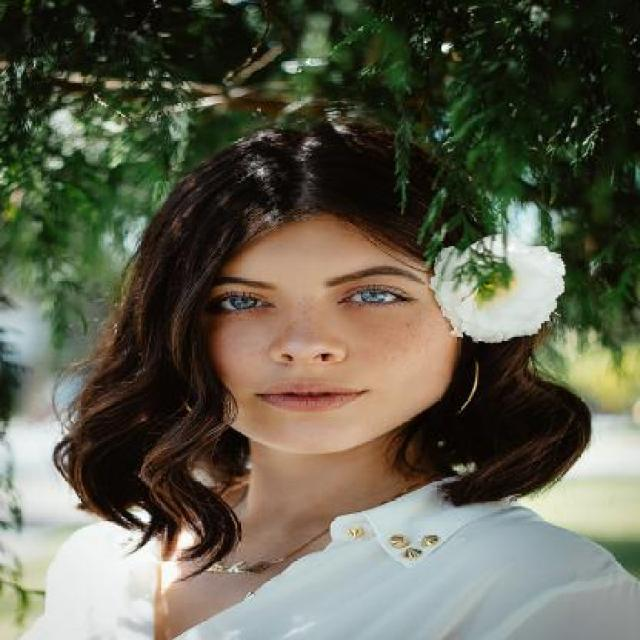closed-mouth: (252, 380, 371, 413)
